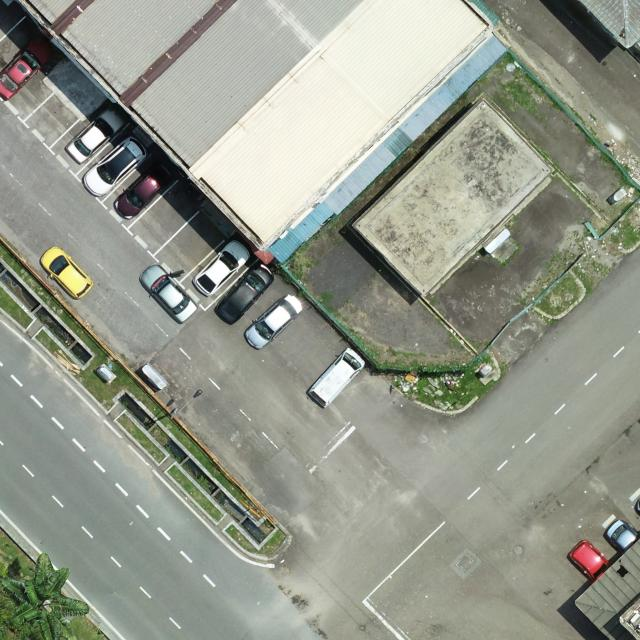tree: (1, 552, 90, 640)
